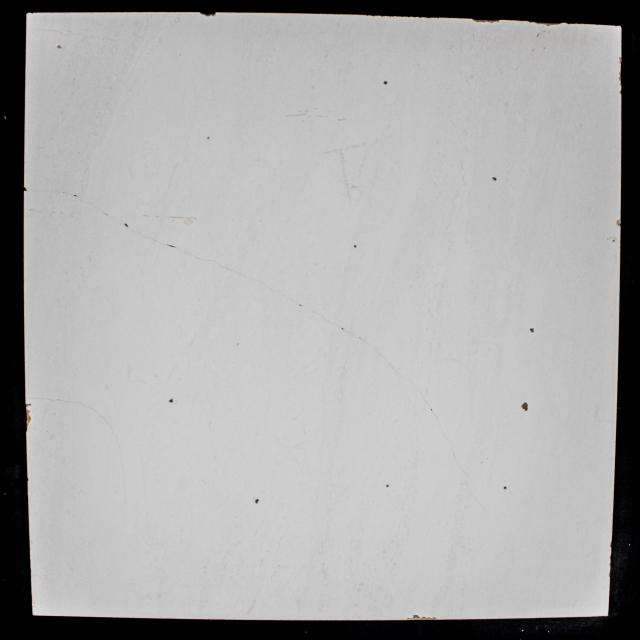edge-chipping: (528, 20, 563, 27), (472, 18, 501, 24), (199, 12, 216, 17), (413, 614, 421, 620), (616, 219, 621, 226), (26, 415, 31, 422), (618, 56, 622, 64), (427, 617, 437, 620), (26, 408, 31, 414), (25, 403, 32, 407), (26, 423, 29, 432), (619, 89, 622, 95), (24, 186, 27, 192), (610, 540, 612, 548), (422, 616, 426, 620), (619, 76, 621, 82), (619, 70, 621, 76), (608, 572, 610, 578), (406, 618, 412, 620), (620, 82, 622, 87), (610, 555, 612, 559), (26, 13, 28, 14)
hole: (520, 402, 528, 412), (529, 327, 535, 333), (254, 499, 260, 504), (492, 176, 497, 182), (168, 398, 174, 403), (56, 44, 62, 49), (383, 80, 388, 85), (503, 486, 507, 490), (386, 484, 389, 488), (207, 136, 210, 140), (354, 244, 356, 248)
line: (414, 384, 465, 474), (273, 289, 346, 332), (349, 332, 408, 380), (196, 256, 270, 288), (142, 234, 194, 256), (104, 212, 140, 234), (94, 411, 112, 427), (66, 401, 94, 410), (25, 396, 65, 402), (82, 199, 102, 211), (51, 190, 79, 197), (112, 431, 120, 452), (120, 457, 126, 480)
